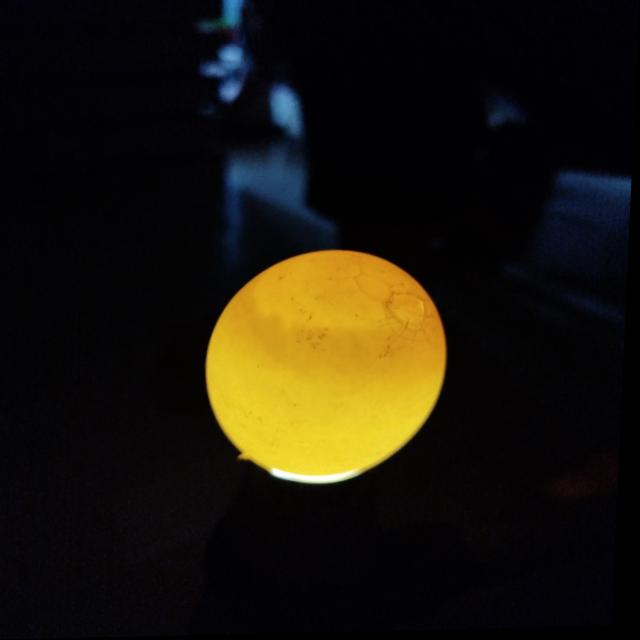Camara de Ar: (259, 253, 435, 331)
Rachadura: (356, 274, 435, 334)
